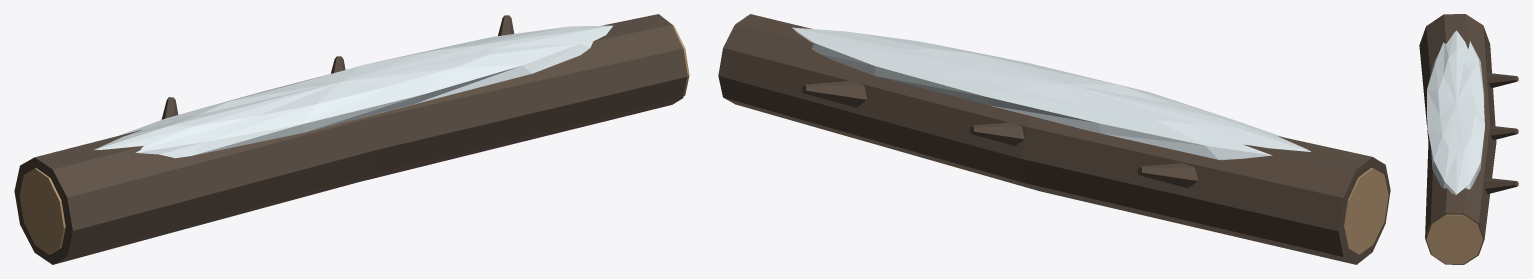
Rendered from LOG_02_FallenLogSnowy.glb.
3 renders of one model, left to right at view 1: azimuth 30°, elevation 25°; view 2: azimuth 150°, elevation 25°; view 3: azimuth 270°, elevation 25°, orthographic. The views are drawn at different scales.
Visible parts, largest first — view 1: LOG_02_FallenLogSnowy; view 2: LOG_02_FallenLogSnowy; view 3: LOG_02_FallenLogSnowy.
Part boxes in pixels (left/top/right/bottom): LOG_02_FallenLogSnowy: left=14, top=14, right=689, bottom=264; LOG_02_FallenLogSnowy: left=718, top=14, right=1390, bottom=264; LOG_02_FallenLogSnowy: left=1419, top=14, right=1518, bottom=264.
Size of the model in its own units: 4.83 by 0.7589 by 1.04.
